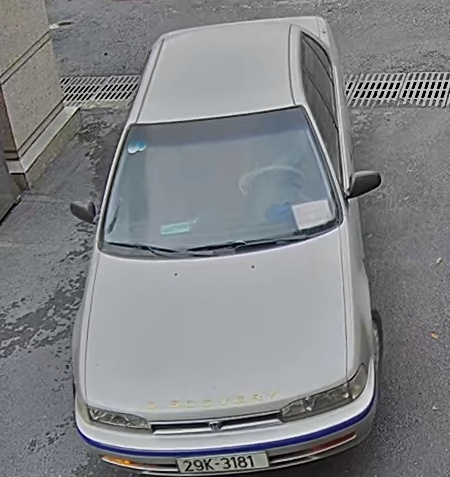vehicle plate: (171, 449, 279, 476)
